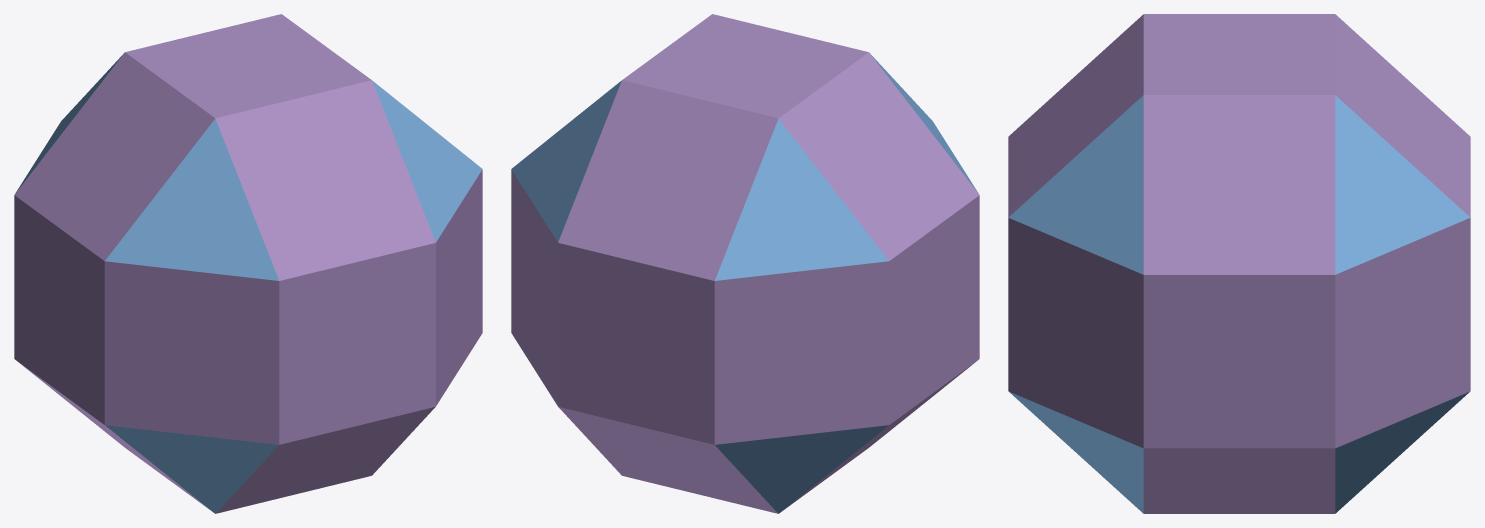
Rendered from 11.Rombicuboctaedro.gltf.
3 renders of one model, left to right at view 1: azimuth 30°, elevation 25°; view 2: azimuth 150°, elevation 25°; view 3: azimuth 270°, elevation 25°, orthographic. The views are drawn at different scales.
Visible parts, largest first — view 1: Solid.002; view 2: Solid.002; view 3: Solid.002.
Part boxes in pixels (x1,y1,x2,y2): Solid.002: (14,14,482,513); Solid.002: (511,14,979,513); Solid.002: (1008,14,1470,513).
Bounding box in the file's own units: 1.15 × 1.15 × 1.15.
